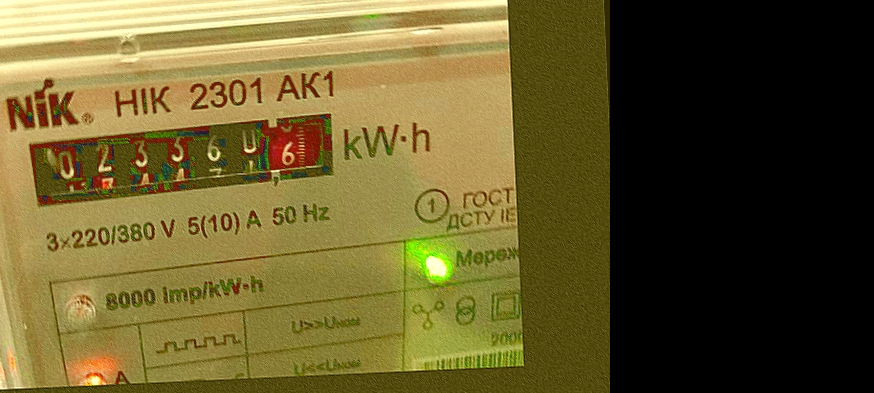0: (54, 147, 78, 182), (236, 125, 260, 157)
2: (93, 141, 114, 175)
3: (167, 131, 187, 164), (129, 138, 149, 170)
6: (202, 131, 224, 165), (277, 136, 299, 170)
screen: (11, 104, 353, 214)
